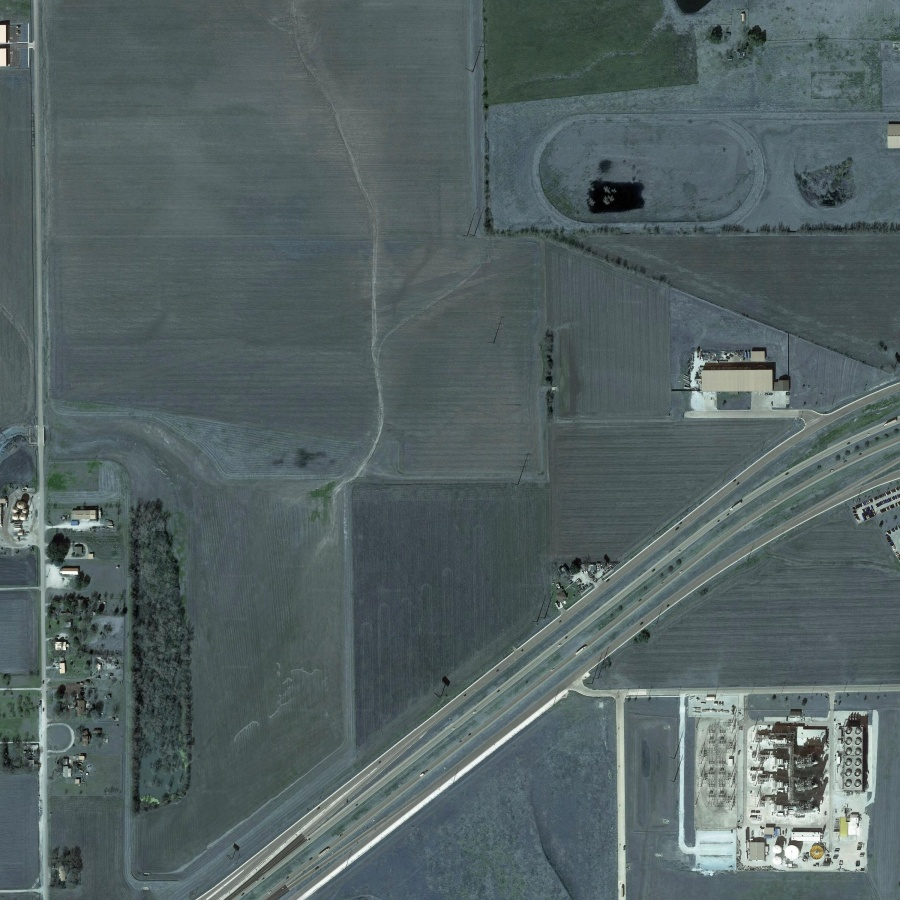PowerPlant: (681, 689, 875, 878)
